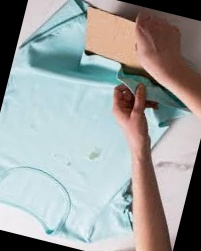oil: (85, 143, 112, 169), (47, 148, 62, 163), (67, 161, 74, 170)
